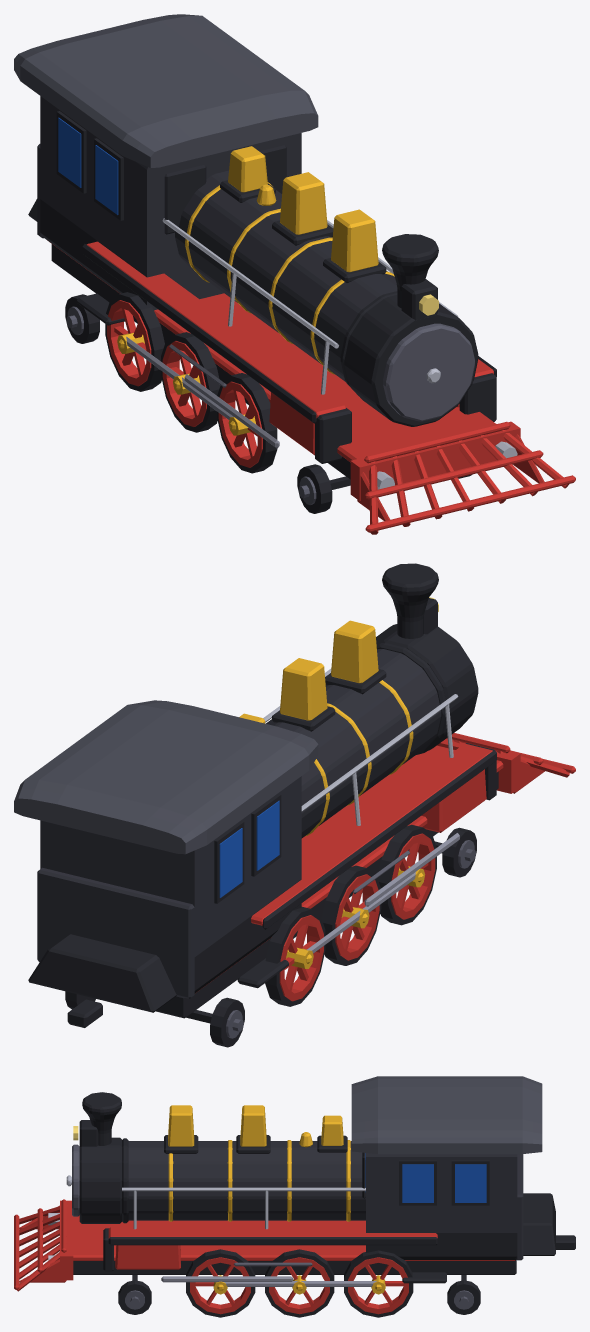
The model's file is steam-train.glb.
3 views of the same model, one above another, from view 1: azimuth 30°, elevation 25°; view 2: azimuth 150°, elevation 25°; view 3: azimuth 270°, elevation 25° (orthographic). The views are drawn at different scales.
Parts seen in each view (by area): view 1: SteamTrain; view 2: SteamTrain; view 3: SteamTrain.
Boxes of the visible parts, x1=… form: SteamTrain: x1=14, y1=14, x2=575, y2=534; SteamTrain: x1=14, y1=563, x2=575, y2=1047; SteamTrain: x1=14, y1=1076, x2=575, y2=1317.
Size of the model in its own units: 1.3 by 1.58 by 4.27.
Materials: 1 (1 with a texture image).
